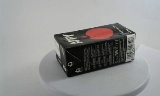appy: (48, 22, 127, 78)
